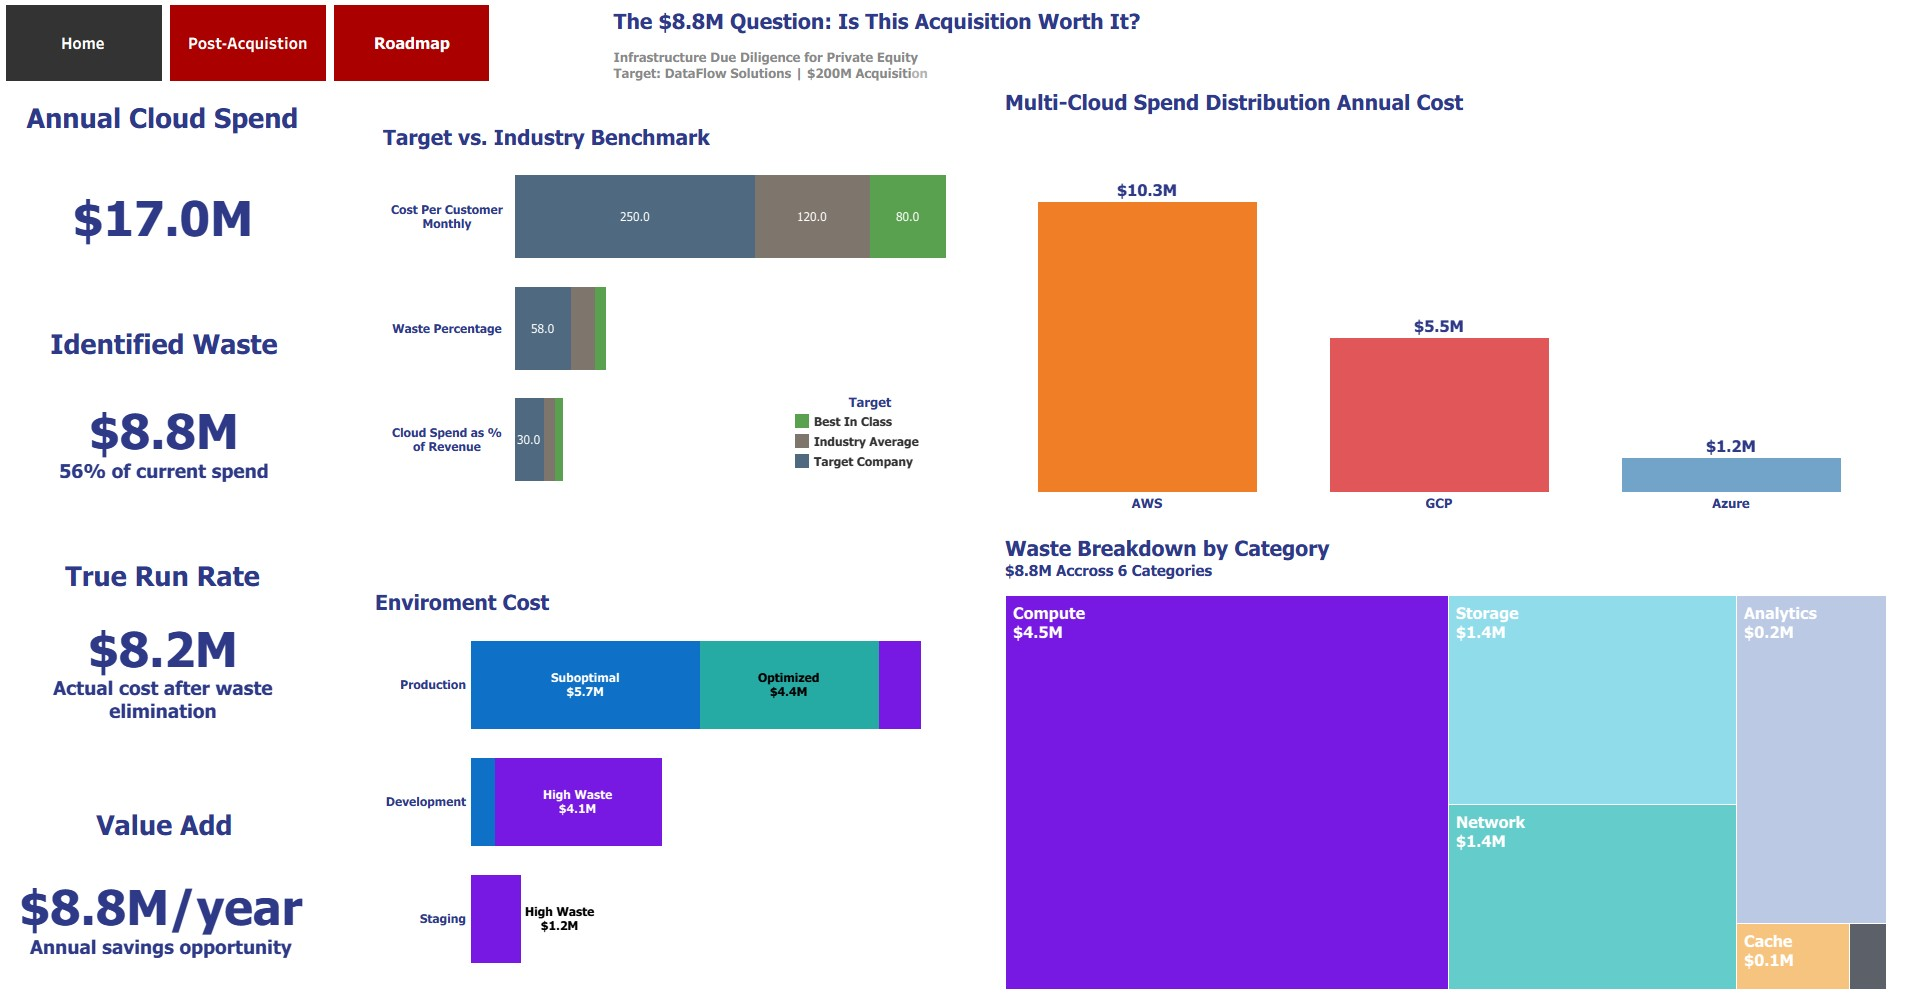

The page's visual inventory and layout, read from the dashboard file:
{"tool":"tableau","page":{"name":"Dashboard 1","canvas":[1000,1000],"units":"permille","ordinal":0},"visuals":[{"type":"text","box":[324.2,0,318.4,102.8]},{"type":"dashboard-object","box":[7,8.2,85.2,82.9]},{"type":"dashboard-object","box":[92.2,8.2,85.2,82.9]},{"type":"dashboard-object","box":[177.5,8.2,85.2,82.9]},{"type":"worksheet","title":"Multi-Cloud Spend","mark":"Bar","rows":["Annual_Cost"],"cols":["Cloud_Provider"],"box":[526.9,91.1,456.2,422.9]},{"type":"worksheet","title":"KPI Annual Cloud Spend","mark":"Automatic","box":[4.8,102.8,171.6,189.2]},{"type":"worksheet","title":"target vs Ind Benchmark","mark":"Automatic","rows":["Metric"],"box":[203.3,126.2,306.8,371.5]},{"type":"worksheet","title":"KPI Waste","mark":"Automatic","box":[16.4,327.1,150,188.1]},{"type":"legend","title":"target vs Ind Benchmark","param":"[federated.0u4ryjf04t94ku1gghh9p1r2bg7c].[:Measure Names]","box":[418.2,397.2,81.3,90]},{"type":"worksheet","title":"Waste Breakdown","mark":"Automatic","box":[526.9,532.7,463,457.9]},{"type":"worksheet","title":"KPI True Run Rate","mark":"Automatic","box":[9.5,556.1,162.1,185.8]},{"type":"worksheet","title":"Environment Cost","mark":"Automatic","rows":["Environment"],"cols":["Annual_Cost"],"box":[199.1,586.5,297.8,387.9]},{"type":"worksheet","title":"KPI Post Aquistion","mark":"Automatic","box":[4.8,802.6,169.5,177.6]}]}

Visuals, with their boxes on the dashboard's canvas, which has no fixed pixel size, in thousandths of its width and height (x1, y1, x2, y2). These are canvas units, not pixel positions in the 1908x1001 screenshot, which may show the page scaled, cropped or inside an application window:
text: <bbox>324, 0, 643, 103</bbox>
dashboard-object: <bbox>7, 8, 92, 91</bbox>
dashboard-object: <bbox>92, 8, 177, 91</bbox>
dashboard-object: <bbox>178, 8, 263, 91</bbox>
"Multi-Cloud Spend" worksheet (Bar marks): <bbox>527, 91, 983, 514</bbox>
"KPI Annual Cloud Spend" worksheet: <bbox>5, 103, 176, 292</bbox>
"target vs Ind Benchmark" worksheet: <bbox>203, 126, 510, 498</bbox>
"KPI Waste" worksheet: <bbox>16, 327, 166, 515</bbox>
"target vs Ind Benchmark" legend: <bbox>418, 397, 500, 487</bbox>
"Waste Breakdown" worksheet: <bbox>527, 533, 990, 991</bbox>
"KPI True Run Rate" worksheet: <bbox>10, 556, 172, 742</bbox>
"Environment Cost" worksheet: <bbox>199, 586, 497, 974</bbox>
"KPI Post Aquistion" worksheet: <bbox>5, 803, 174, 980</bbox>
